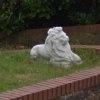Statue: (23, 18, 81, 68)
